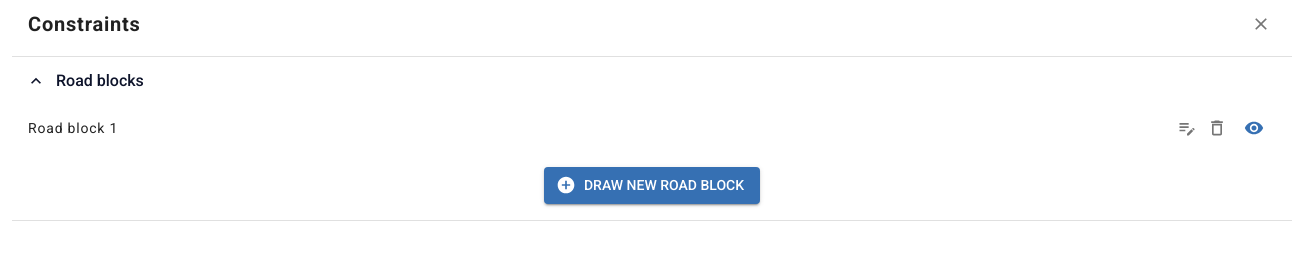
it: ConstraintsView › Constraint Actions › shows error when name is empty on blur
This screenshot has width=1304, height=260.
Expected: the text "Road block 1" is shown, [28,120,118,136]
Click the button named "Edit constraint name": click(1187, 128) [1172,113,1202,143]
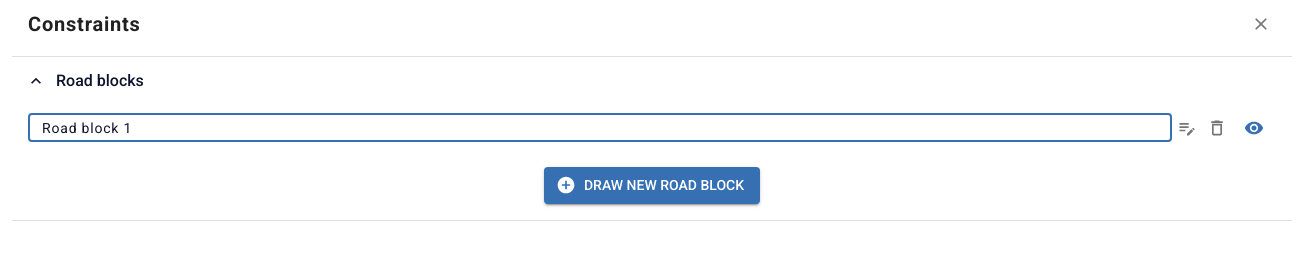
Clear the field showing "Road block 1": (600, 128) [28,114,1172,142]
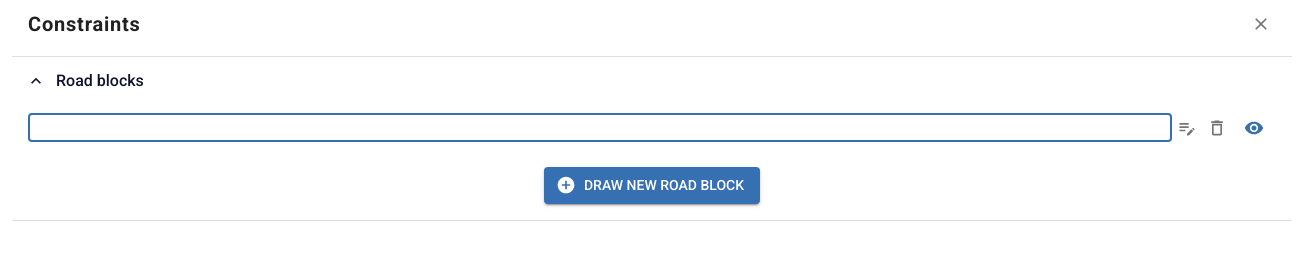
Leave the field showing "Road block 1", box [28,114,1172,142]
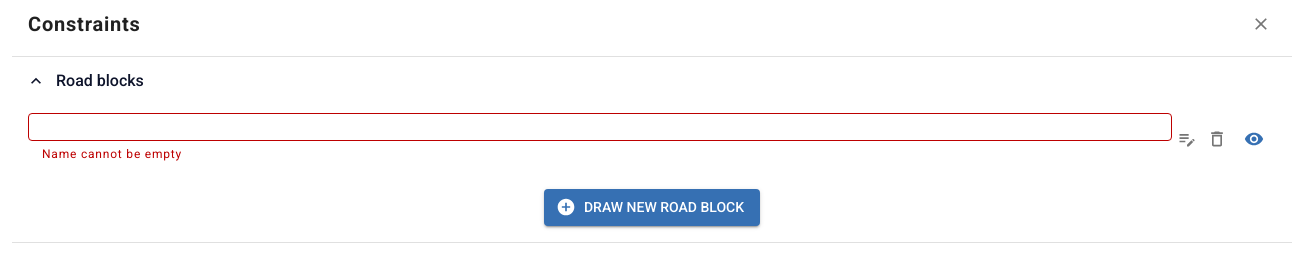
Now the text "Name cannot be empty" is shown, box [42,147,182,161]
